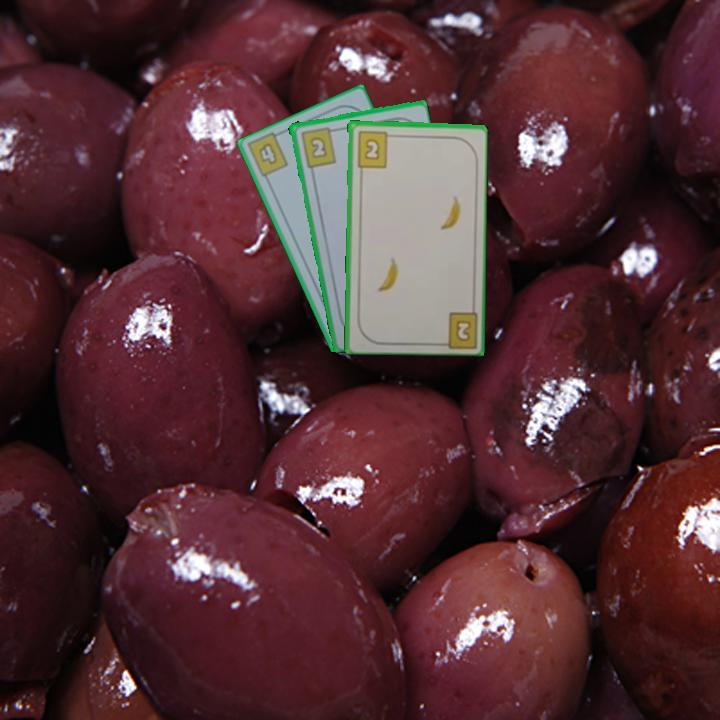2b: (297, 123, 339, 170), (354, 127, 396, 169), (452, 317, 473, 344)
4b: (255, 139, 280, 167)
